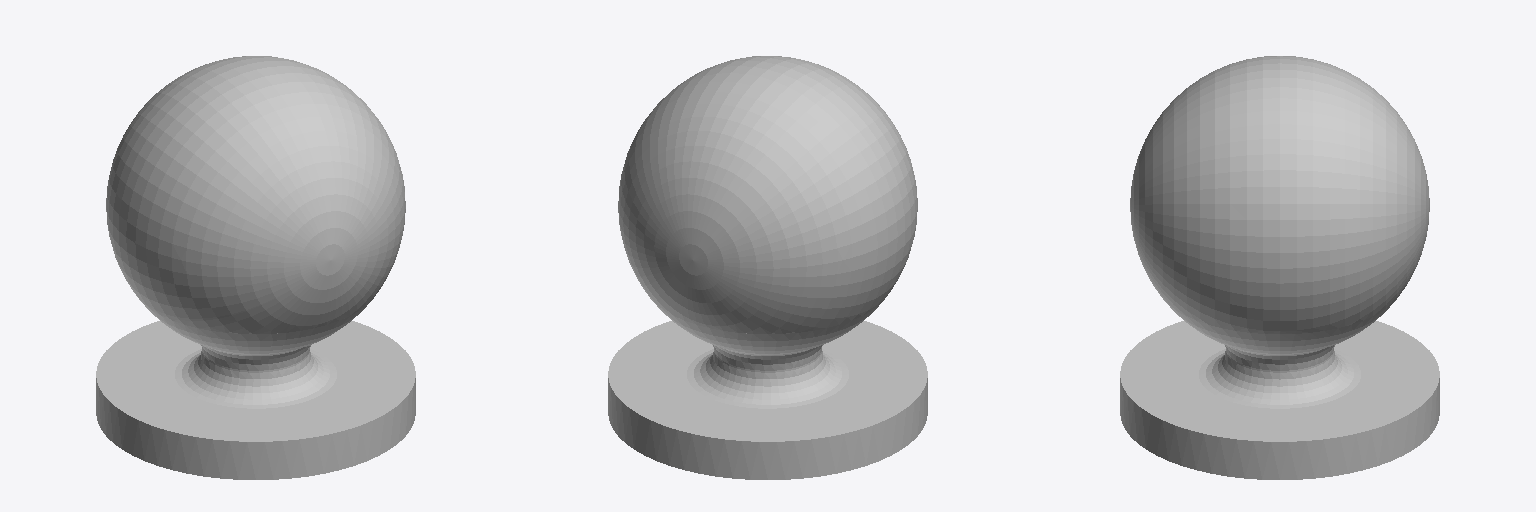
The model's file is LeftThumb.obj.
3 renders of one model, left to right at view 1: azimuth 30°, elevation 25°; view 2: azimuth 150°, elevation 25°; view 3: azimuth 270°, elevation 25°, orthographic.
Parts seen in each view (by area): view 1: LeftThumb; view 2: LeftThumb; view 3: LeftThumb.
Part boxes in pixels (x1,y1,x2,y2): LeftThumb: (96, 56, 415, 479); LeftThumb: (608, 56, 927, 479); LeftThumb: (1120, 56, 1439, 479).
Size of the model in its own units: 11.79 by 15.16 by 11.78.